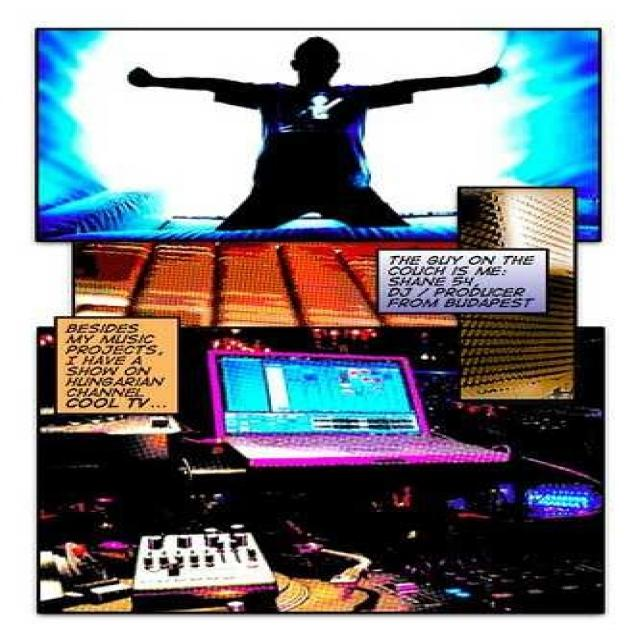laptop: (200, 344, 454, 470)
